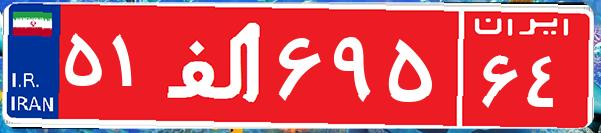1: (110, 28, 158, 105)
4: (525, 38, 570, 115)
5: (385, 28, 445, 110), (57, 26, 110, 107)
6: (273, 28, 330, 110), (475, 38, 525, 113)
9: (330, 28, 385, 110)
الف: (158, 15, 273, 115)
